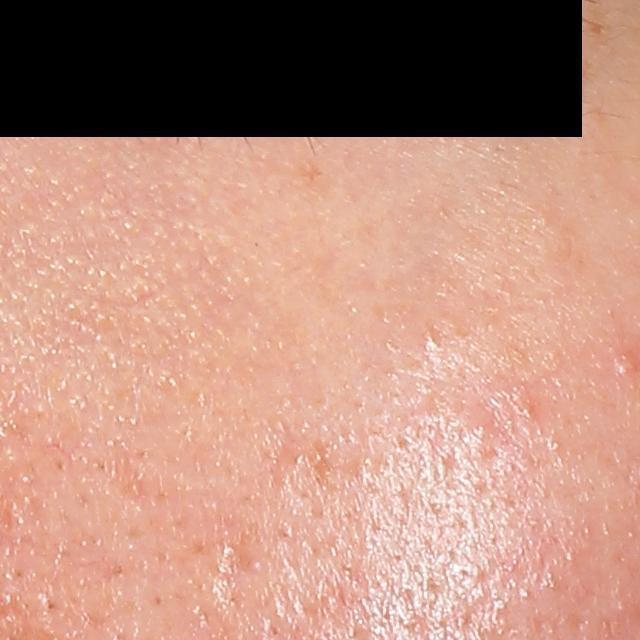papule: (611, 351, 639, 377)
